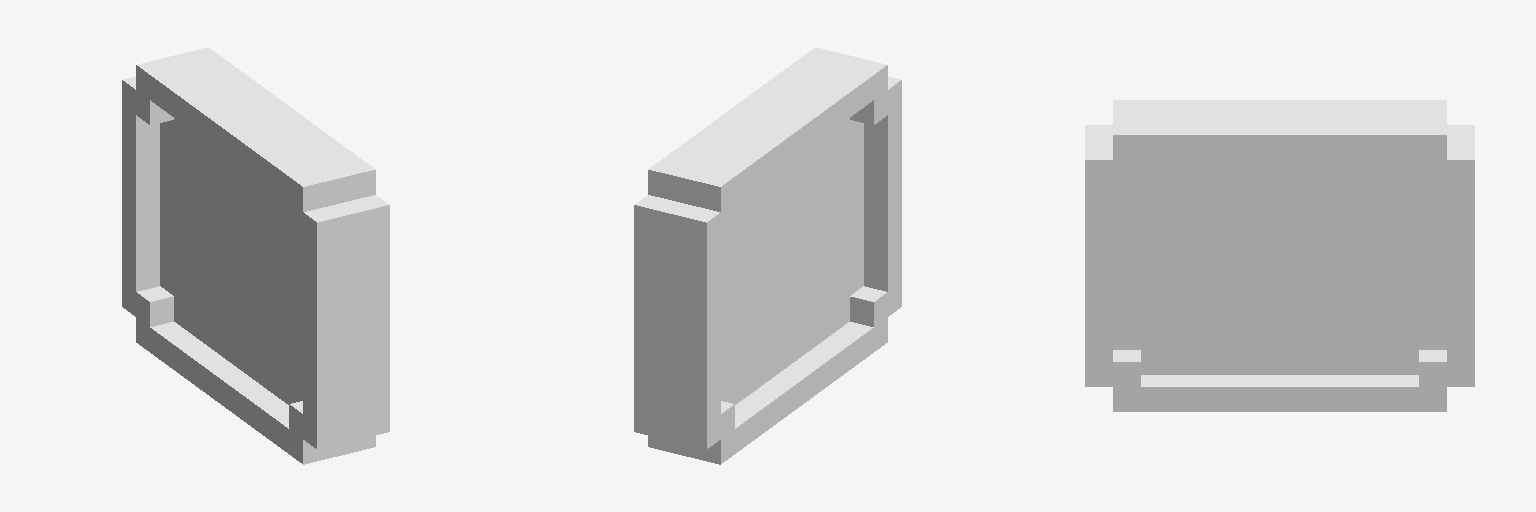
Rendered from Project1day-0.obj.
3 renders of one model, left to right at view 1: azimuth 30°, elevation 25°; view 2: azimuth 150°, elevation 25°; view 3: azimuth 270°, elevation 25°, orthographic.
Parts seen in each view (by area): view 1: object 1; view 2: object 1; view 3: object 1.
Boxes of the visible parts, x1=… form: object 1: x1=122, y1=47, x2=389, y2=464; object 1: x1=634, y1=47, x2=901, y2=464; object 1: x1=1085, y1=100, x2=1474, y2=411.
Size of the model in its own units: 0.3 by 1.1 by 1.4.